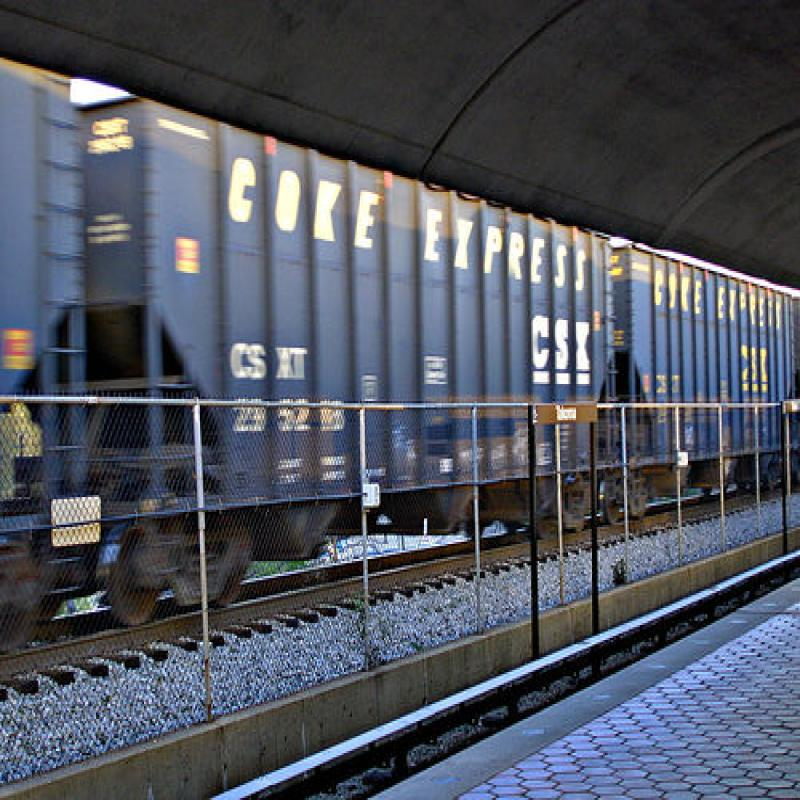train: (1, 58, 799, 658)
